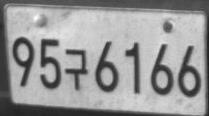1: (122, 41, 148, 94)
5: (39, 38, 61, 90)
6: (176, 44, 202, 98), (94, 40, 119, 93), (150, 43, 175, 96)
9: (11, 35, 35, 87)
구: (64, 48, 88, 90)
